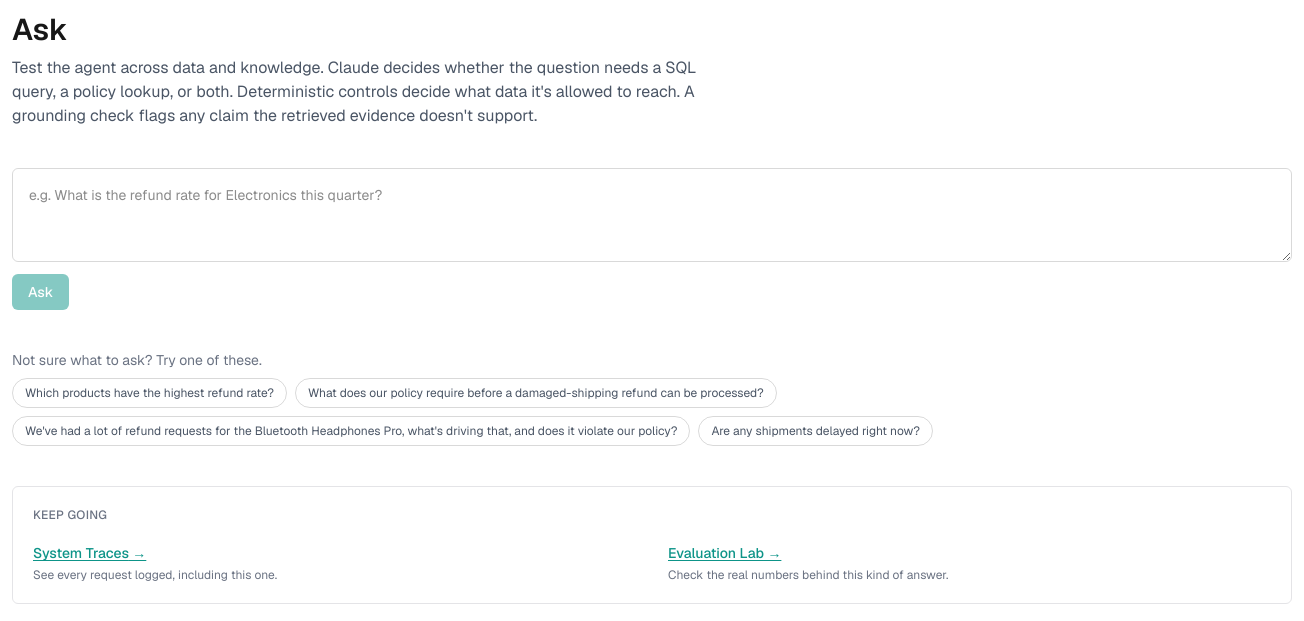
Test: Ask page example questions › clicking What does our policy require before a damaged-shipping refund can be processed? populates the textarea with that exact text
The image size is (1304, 621).
Click the button "What does our policy require before a damaged-shipping refund can be processed?" at (536, 393), box left=295, top=378, right=777, bottom=408
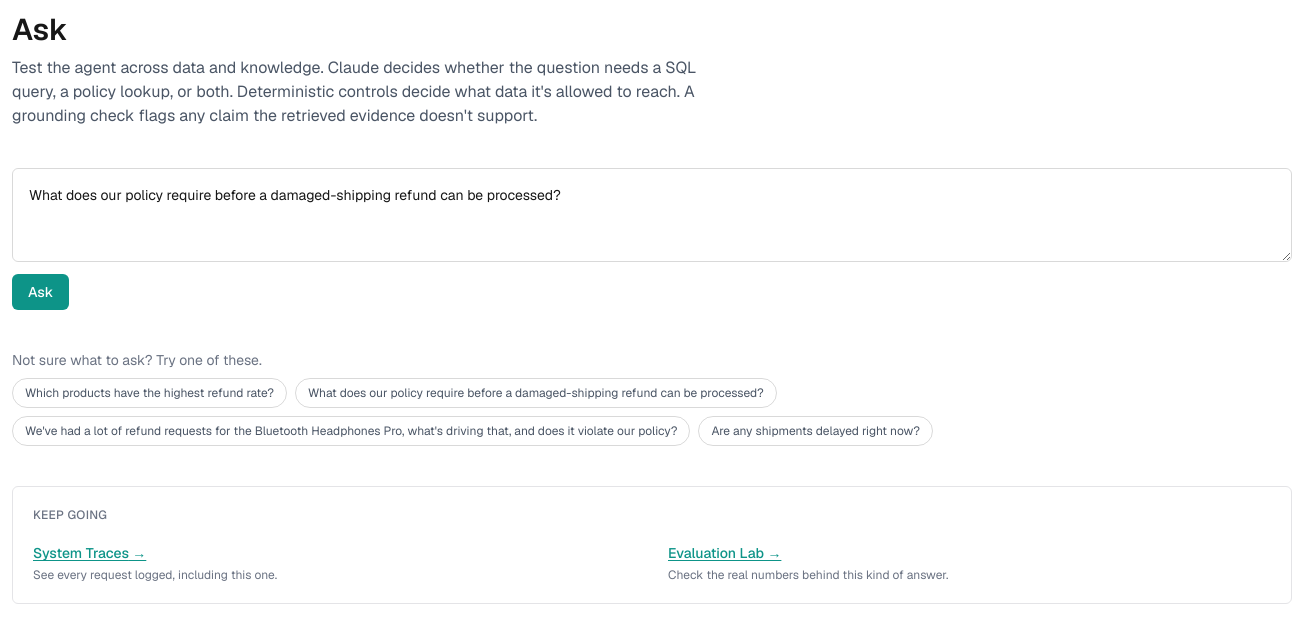
Expected: the text box with placeholder "e.g. What is the refund rate for Electronics this quarter?" holds "What does our policy require before a damaged-shipping refund can be processed?", left=12, top=168, right=1292, bottom=262
